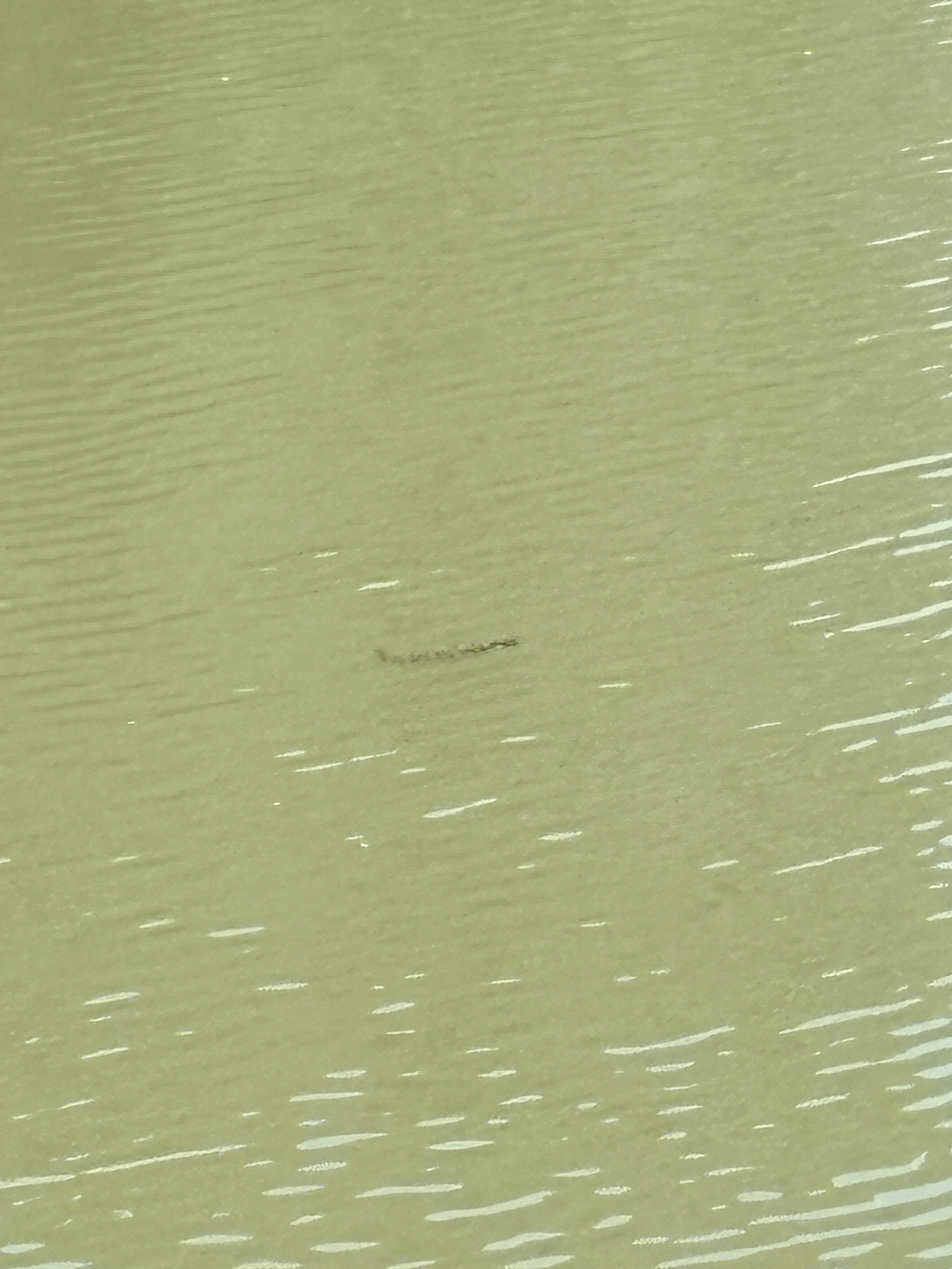Other: (478, 574, 499, 764)
